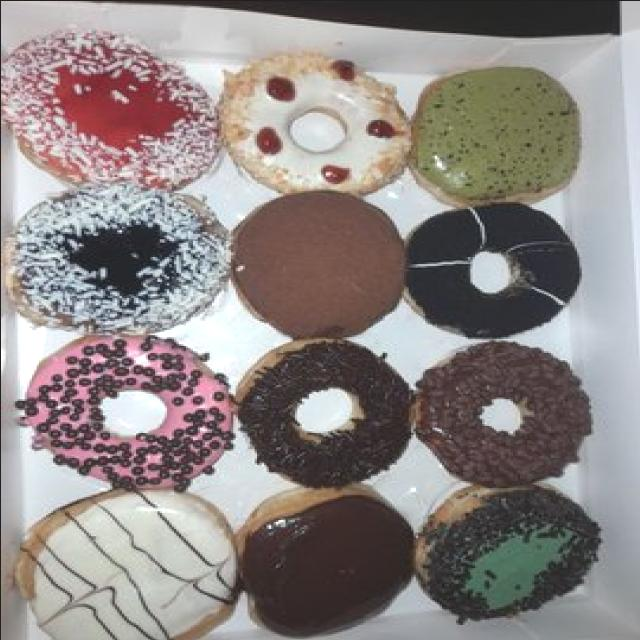donat: (14, 332, 239, 494), (9, 487, 244, 640), (0, 27, 223, 188), (7, 181, 230, 336), (216, 52, 412, 197), (410, 341, 593, 491), (235, 340, 415, 491), (237, 489, 417, 640), (230, 190, 408, 341), (417, 485, 602, 622), (403, 203, 581, 343), (410, 66, 581, 206)
